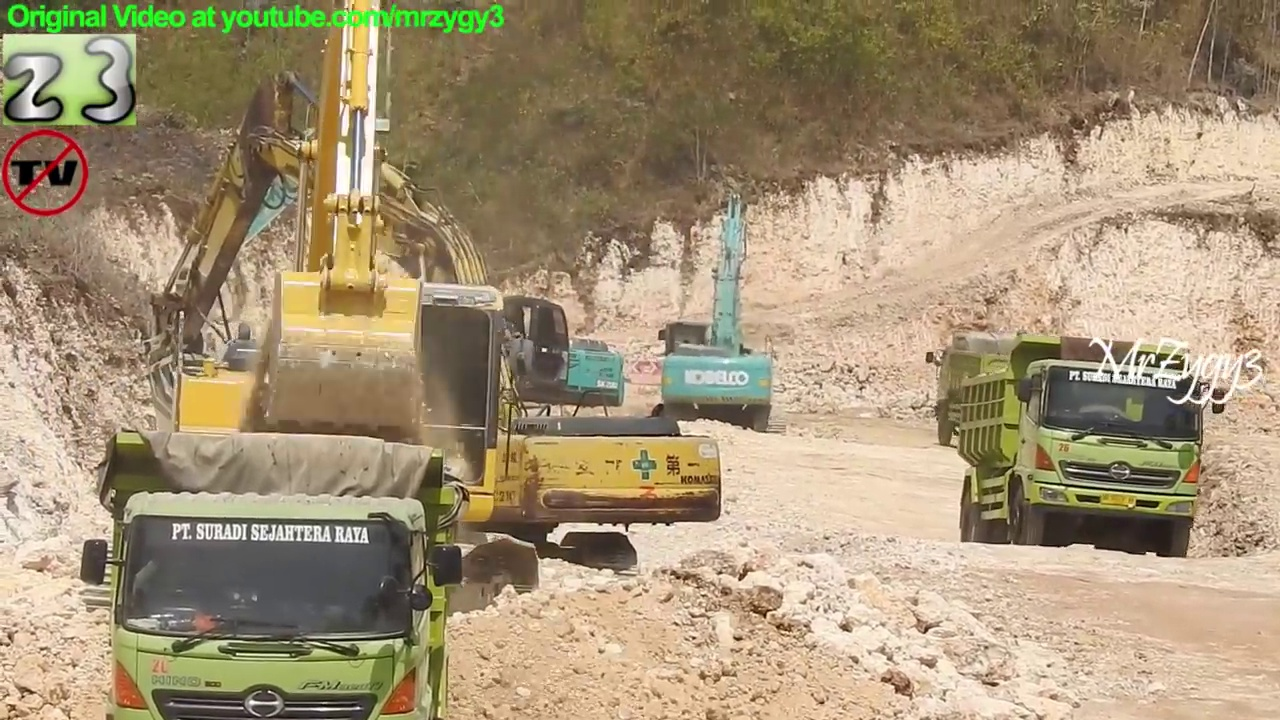excavator: (141, 67, 727, 600), (78, 2, 540, 627), (150, 126, 633, 492), (643, 186, 793, 440)
truck: (77, 424, 477, 720), (957, 334, 1231, 571), (919, 331, 1100, 450)
